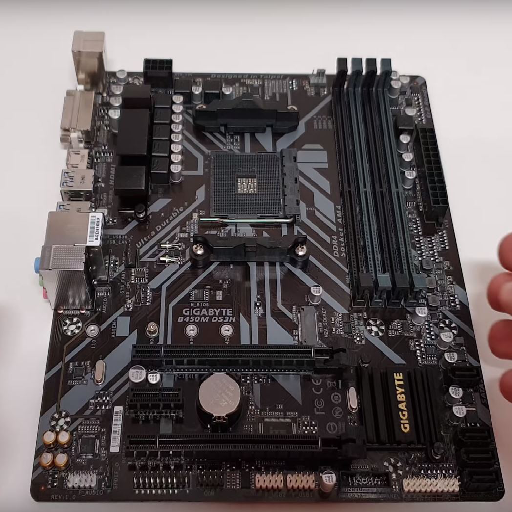CPU: (191, 141, 302, 230)
GPU: (130, 334, 352, 376), (126, 428, 365, 461)
MOTHERBOARD: (36, 62, 506, 502)
RAM: (331, 57, 424, 302)
SSD: (292, 305, 319, 345)
